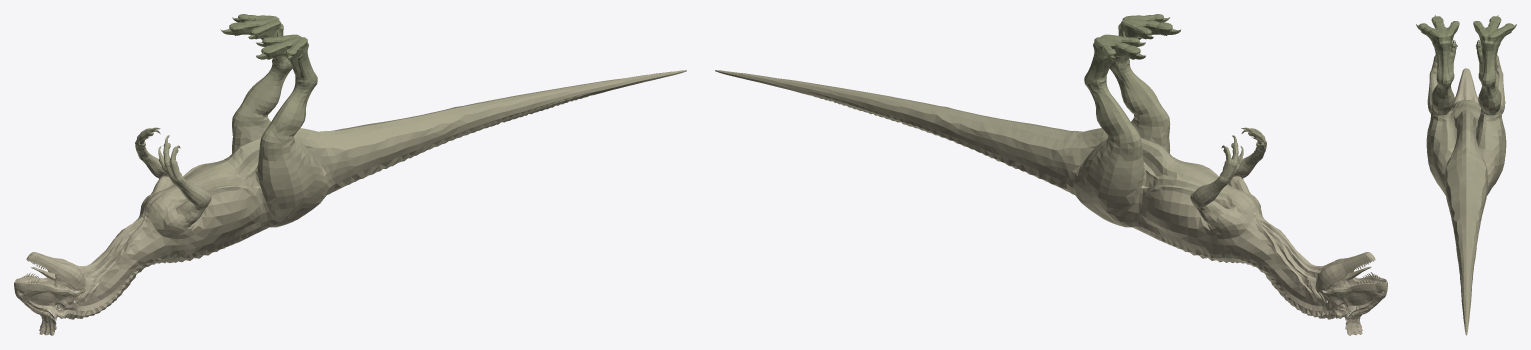
Rendered from cryolophosaurus.glb.
3 renders of one model, left to right at view 1: azimuth 30°, elevation 25°; view 2: azimuth 150°, elevation 25°; view 3: azimuth 270°, elevation 25°, orthographic. The views are drawn at different scales.
Visible parts, largest first — view 1: world; view 2: world; view 3: world.
Boxes of the visible parts, x1,y1,x2,y2 form: world: [14, 14, 686, 335]; world: [715, 14, 1387, 335]; world: [1416, 15, 1516, 335].
Size of the model in its own units: 10 by 3.51 by 1.44.
